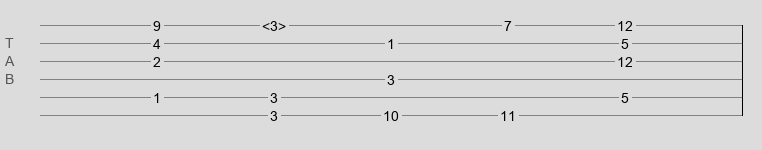1: (153, 90, 161, 100), (387, 36, 395, 46)
10: (383, 108, 399, 118)
11: (500, 108, 516, 118)
12: (617, 18, 633, 28), (617, 54, 633, 64)
2: (153, 54, 161, 64)
3: (270, 90, 278, 100), (270, 108, 278, 118), (387, 72, 395, 82)
4: (153, 36, 161, 46)
5: (621, 36, 629, 46), (621, 90, 629, 100)
7: (504, 18, 512, 28)
9: (153, 18, 161, 28)
harmonic: (262, 18, 286, 28)
